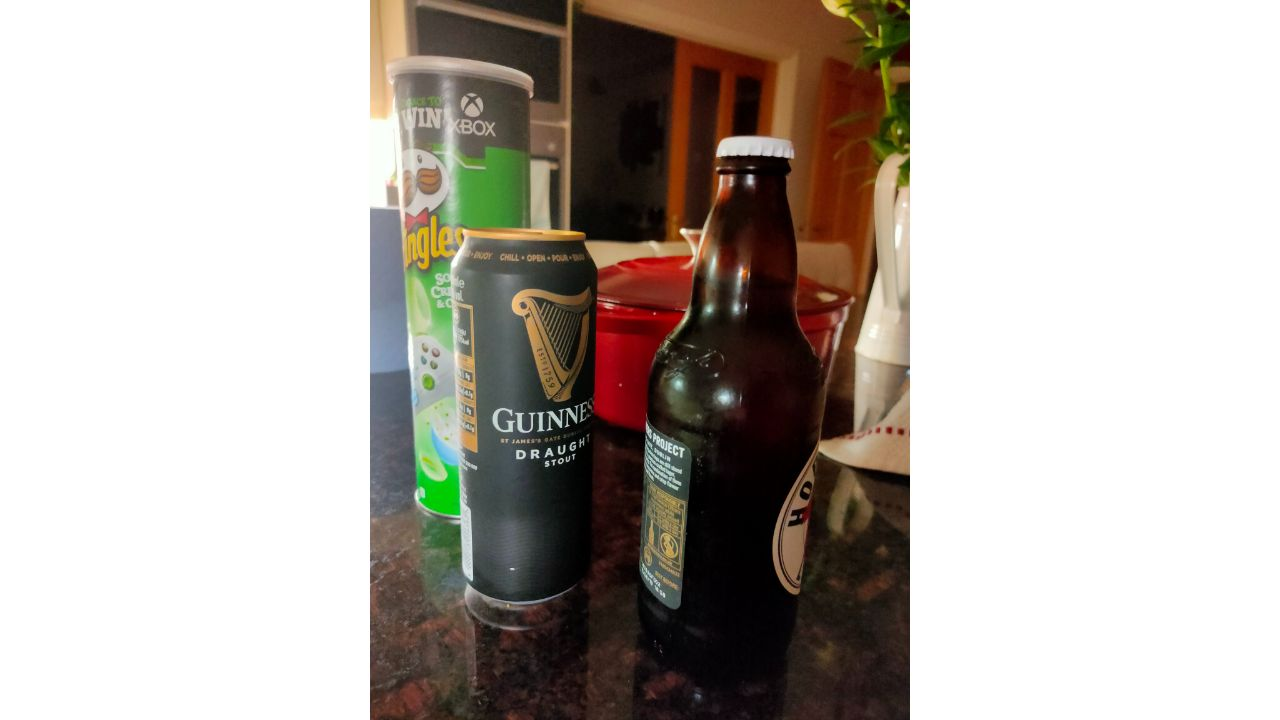Can: (451, 229, 594, 618)
